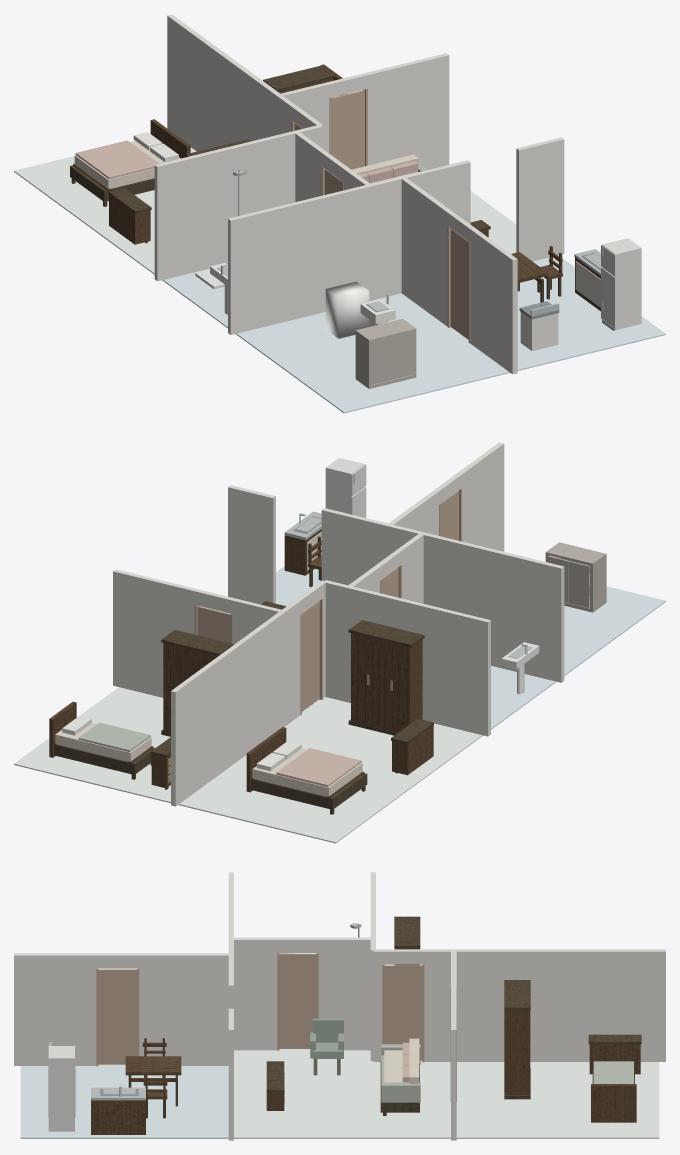
3 views of the same model, one above another, from view 1: azimuth 30°, elevation 25°; view 2: azimuth 150°, elevation 25°; view 3: azimuth 270°, elevation 25° (orthographic). The views are drawn at different scales.
Visible parts, largest first — view 1: H12_WALL_08, H12_WALL_04, H12_FLOOR_06_SERVICO, H12_WALL_02, H12_WALL_00, H12_FLOOR_04_COZINHA, H12_WALL_10, H12_WALL_09, H12_WALL_07, H12_FLOOR_01_QUARTO_1, H12_FURN_02_fridge__05__gabinete, H12_DOOR_00_LEAF (+19 smaller); view 2: H12_WALL_08, H12_WALL_02, H12_FLOOR_01_QUARTO_1, H12_WALL_04, H12_WALL_00, H12_FLOOR_00_QUARTO_2, H12_WALL_07, H12_FLOOR_06_SERVICO, H12_WALL_10, H12_FURN_13_wardrobe__04__porta_esquerda, H12_FURN_13_wardrobe__03__porta_direita, H12_FLOOR_05_BANHEIRO (+26 smaller); view 3: H12_WALL_02, H12_FLOOR_02_SALA, H12_FLOOR_00_QUARTO_2, H12_FLOOR_04_COZINHA, H12_WALL_09, H12_WALL_10, H12_WALL_05, H12_WALL_06, H12_DOOR_03_LEAF, H12_DOOR_02_LEAF, H12_DOOR_01_LEAF, H12_FURN_02_fridge__05__gabinete (+25 smaller).
Part boxes in pixels (box(x1,y1,x2,y2)): H12_WALL_08: box(228, 160, 470, 334); H12_WALL_04: box(154, 124, 322, 281); H12_FLOOR_06_SERVICO: box(236, 293, 509, 413); H12_WALL_02: box(167, 14, 297, 151); H12_WALL_00: box(364, 53, 449, 169); H12_FLOOR_04_COZINHA: box(517, 255, 665, 370); H12_WALL_10: box(469, 227, 517, 374); H12_WALL_09: box(401, 178, 452, 326); H12_WALL_07: box(516, 137, 564, 261); H12_FLOOR_01_QUARTO_1: box(14, 147, 196, 274); H12_FURN_02_fridge__05__gabinete: box(602, 238, 641, 329); H12_DOOR_00_LEAF: box(332, 90, 364, 169); H12_WALL_08: box(321, 508, 564, 682); H12_WALL_02: box(171, 599, 300, 806); H12_FLOOR_01_QUARTO_1: box(178, 697, 482, 843); H12_WALL_04: box(325, 580, 490, 736); H12_WALL_00: box(113, 569, 197, 697); H12_FLOOR_00_QUARTO_2: box(14, 687, 170, 803); H12_WALL_07: box(228, 485, 275, 604); H12_FLOOR_06_SERVICO: box(564, 586, 665, 675); H12_WALL_10: box(456, 442, 504, 551); H12_FURN_13_wardrobe__04__porta_esquerda: box(380, 643, 409, 730); H12_FURN_13_wardrobe__03__porta_direita: box(351, 636, 379, 725); H12_FLOOR_05_BANHEIRO: box(491, 666, 556, 729); H12_WALL_02: box(423, 949, 665, 1061); H12_FLOOR_02_SALA: box(234, 1061, 450, 1138); H12_FLOOR_00_QUARTO_2: box(456, 1062, 659, 1138); H12_FLOOR_04_COZINHA: box(20, 1065, 228, 1138); H12_WALL_09: box(138, 953, 228, 1065); H12_WALL_10: box(14, 953, 97, 1065); H12_WALL_05: box(317, 937, 373, 1050); H12_WALL_06: box(231, 937, 278, 1050); H12_DOOR_03_LEAF: box(98, 969, 137, 1064); H12_DOOR_02_LEAF: box(279, 953, 316, 1048); H12_DOOR_01_LEAF: box(384, 965, 422, 1060); H12_FURN_02_fridge__05__gabinete: box(48, 1046, 74, 1131).
Bounding box in the file's own units: 7.42 × 2.46 × 12.98.
Materials: 21 (3 with a texture image).
